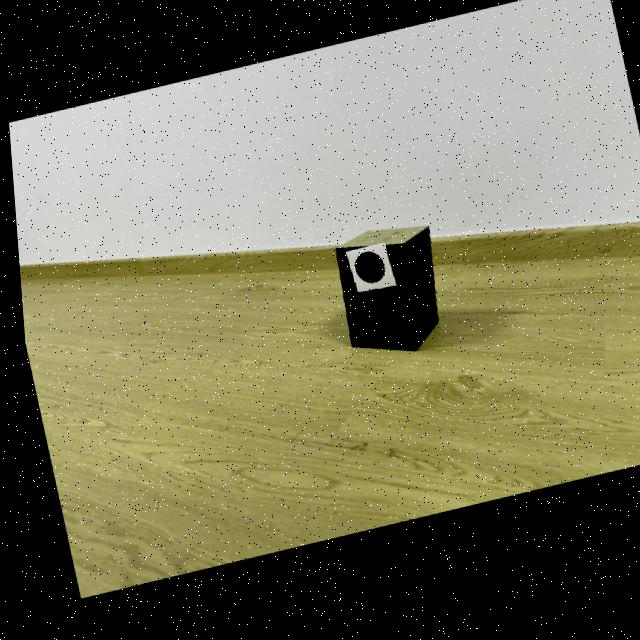CIRCLE: (350, 258, 381, 291)
